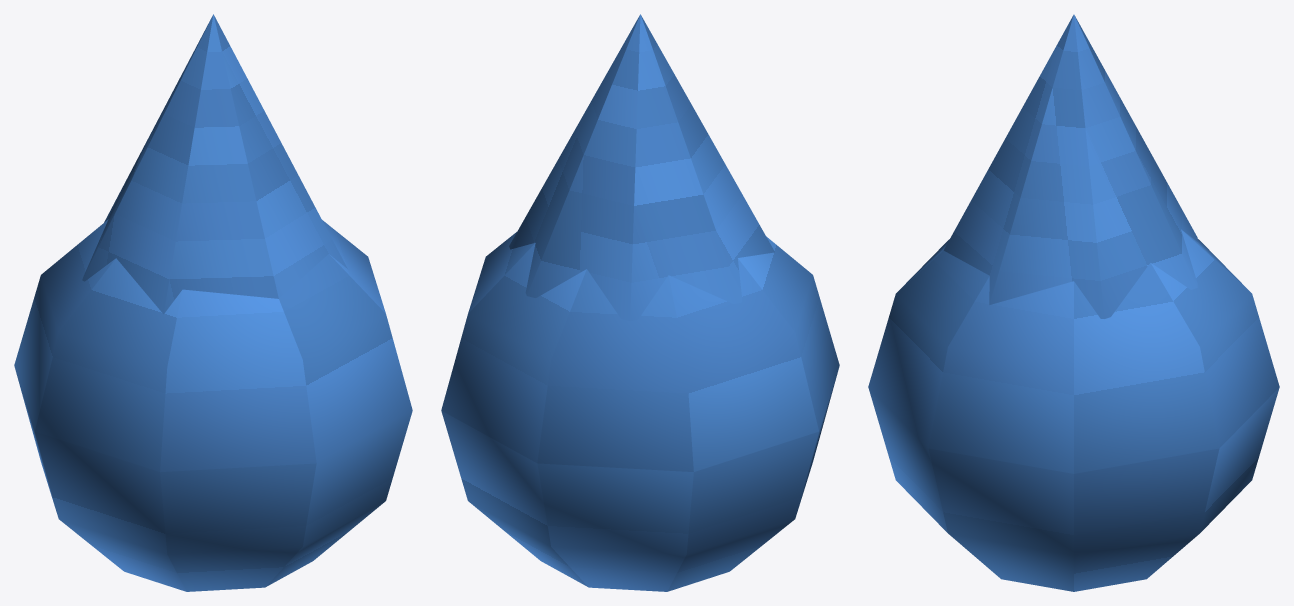
Rendered from gota.glb.
The picture shows the model from 3 angles, left to right: view 1: azimuth 30°, elevation 25°; view 2: azimuth 150°, elevation 25°; view 3: azimuth 270°, elevation 25°; orthographic projection.
Visible parts, largest first — view 1: gota; view 2: gota; view 3: gota.
Part boxes in pixels (box(x1,y1,x2,y2)): gota: box(14, 14, 412, 591); gota: box(441, 14, 839, 591); gota: box(868, 14, 1279, 591).
Size of the model in its own units: 0.6 by 0.9 by 0.6.
1 material, 1 textured.
